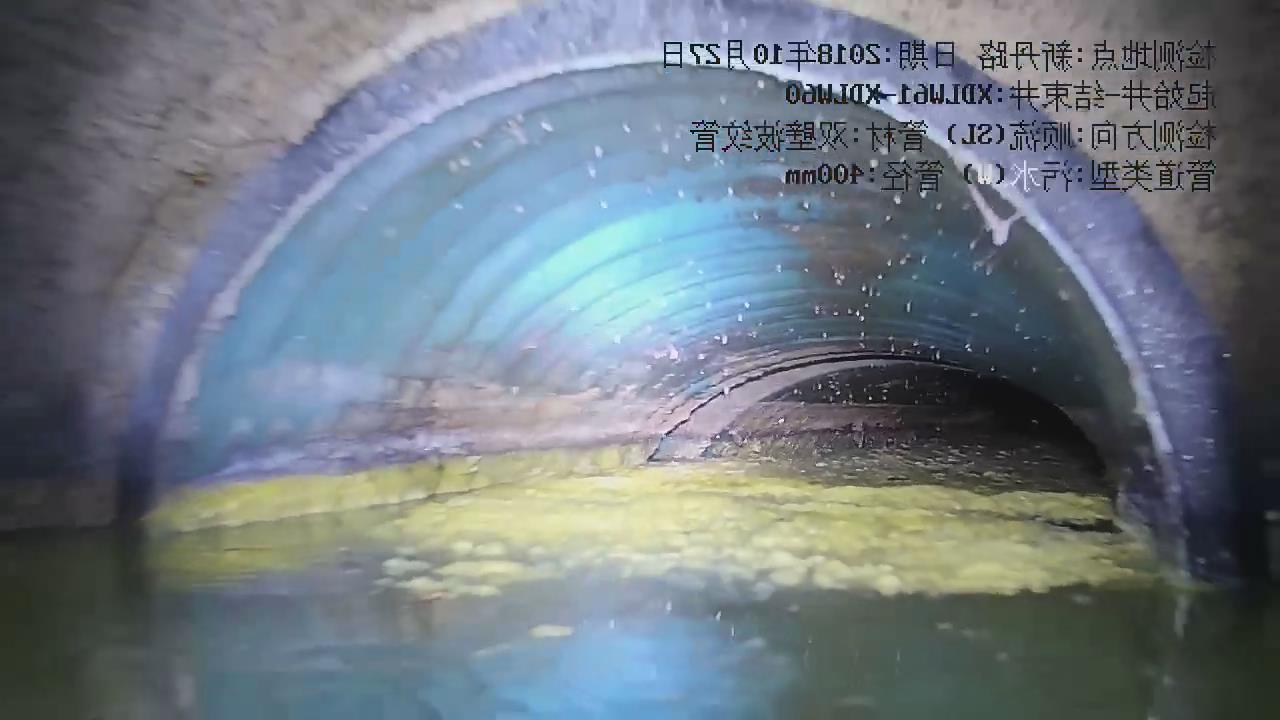CKTJ: (653, 358, 917, 459)
FZ: (156, 437, 1155, 598)
